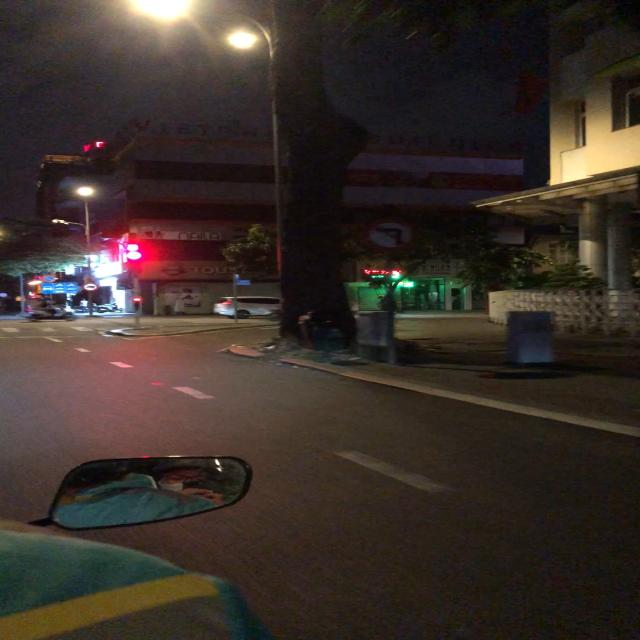Bien bao cam re trai: (356, 216, 428, 255)
Bien bao cam xe so-mi ro-mooc: (80, 278, 105, 294)
